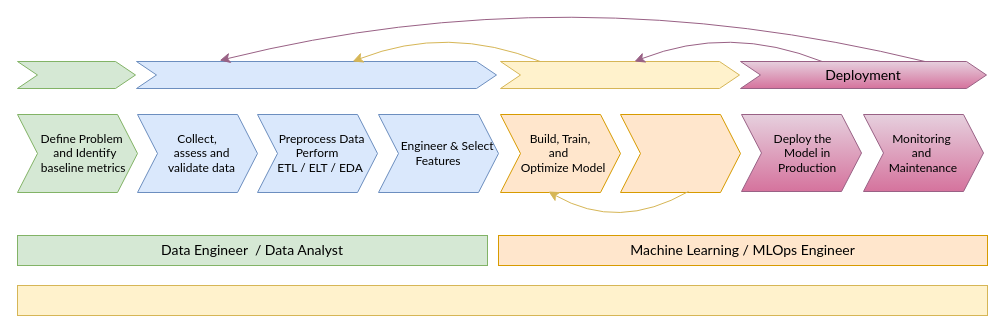
The diagram is 1005 pixels wide and 334 high, and some of its shapes have lost their labels. Here are the shapes that lost their labels. From the top down, the centre of each, then its label:
the point at 76,74: Scoping
the point at 316,74: Data
the point at 620,74: Modeling
the point at 680,153: Evaluate and Validate Model
the point at 502,300: Data Scientist
